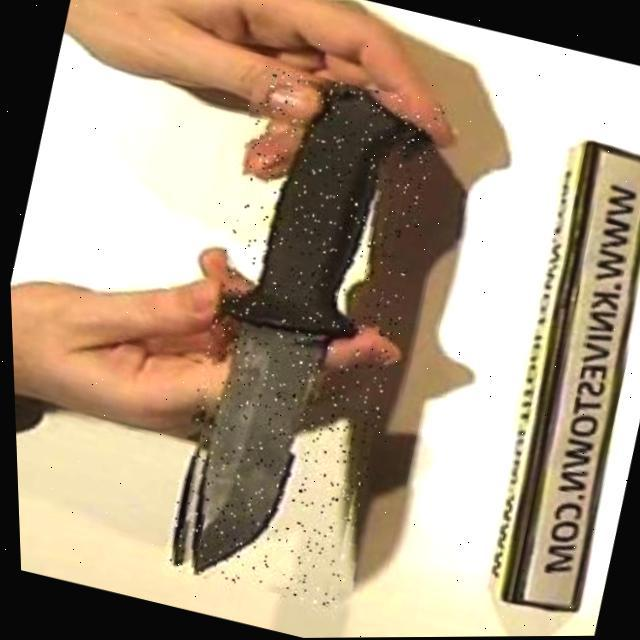knife: (141, 62, 459, 610)
